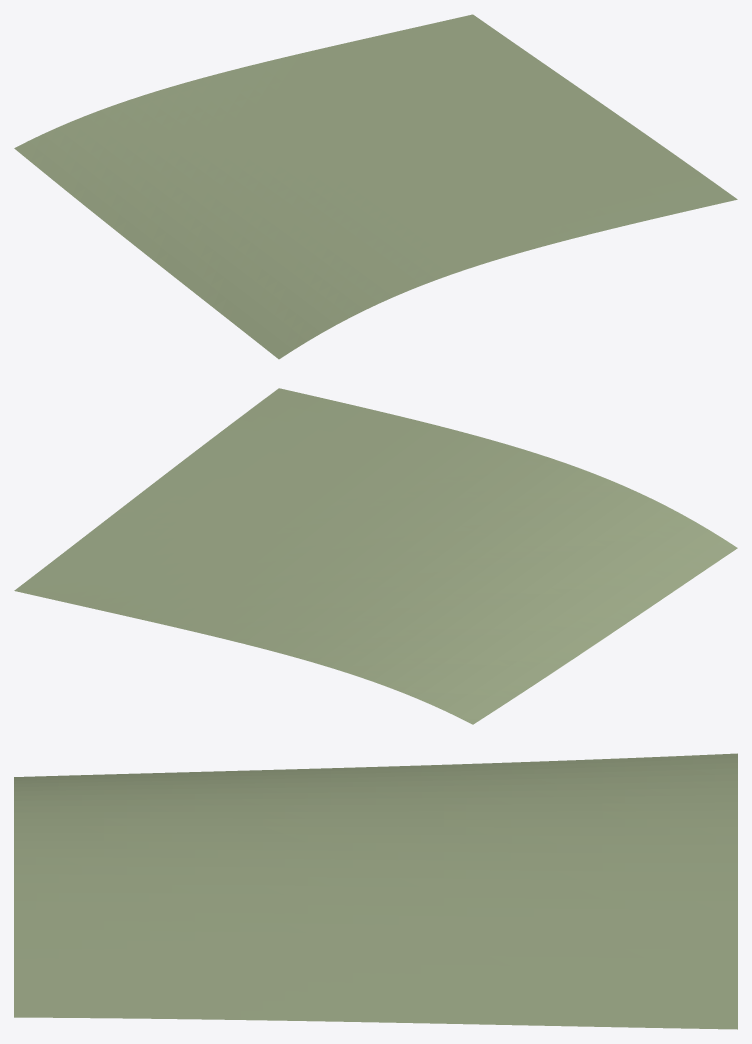
File: expanse-14-25.glb
The picture shows the model from 3 angles, top to bottom: view 1: azimuth 30°, elevation 25°; view 2: azimuth 150°, elevation 25°; view 3: azimuth 270°, elevation 25°; orthographic projection. The views are drawn at different scales.
Parts seen in each view (by area): view 1: expanse-14-25; view 2: expanse-14-25; view 3: expanse-14-25.
Part boxes in pixels (x1,y1,x2,y2): expanse-14-25: (14,14,737,359); expanse-14-25: (14,388,737,724); expanse-14-25: (14,753,737,1029).
Bounding box in the file's own units: 256 × 26.34 × 256.
